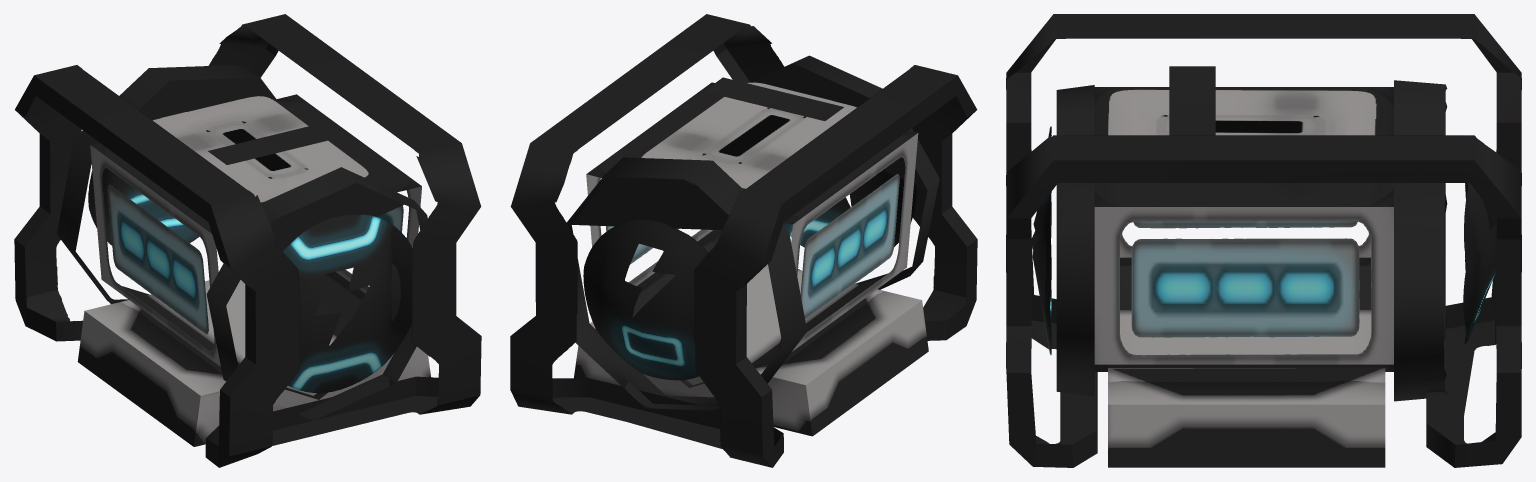
The model's file is obj_interactive_electricengine_04_lod1.fbx.
3 views of the same model, side by side, from view 1: azimuth 30°, elevation 25°; view 2: azimuth 150°, elevation 25°; view 3: azimuth 270°, elevation 25° (orthographic). The views are drawn at different scales.
Parts seen in each view (by area): view 1: polySurface13; view 2: polySurface13; view 3: polySurface13.
Part boxes in pixels (x1,y1,x2,y2): polySurface13: (14,14,481,467); polySurface13: (510,14,977,467); polySurface13: (1006,14,1521,467).
Size of the model in its own units: 2.02 by 2 by 3.
1 material, 1 textured.
